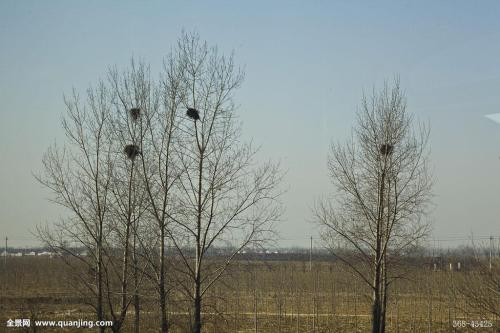bird-nest: (125, 144, 142, 158), (380, 142, 394, 154), (130, 108, 142, 119), (187, 107, 199, 118)
